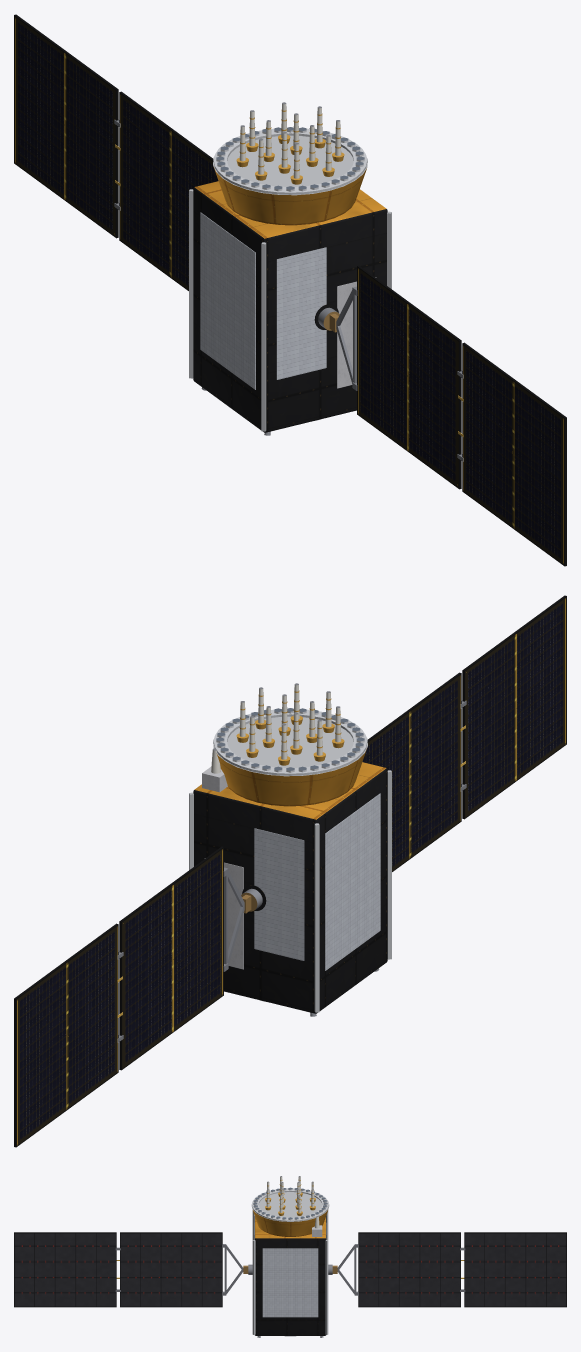
File: glonass-k1.glb
The picture shows the model from 3 angles, top to bottom: view 1: azimuth 30°, elevation 25°; view 2: azimuth 150°, elevation 25°; view 3: azimuth 270°, elevation 25°; orthographic projection. The views are drawn at different scales.
Visible parts, largest first — view 1: bus, wing-Y, wing+Y, nadir_antenna_and_lra; view 2: bus, wing+Y, wing-Y, nadir_antenna_and_lra; view 3: wing+Y, wing-Y, bus, nadir_antenna_and_lra.
Part boxes in pixels (x1,y1,x2,y2): bus: (189,181,391,432); wing-Y: (329,265,566,566); wing+Y: (14,14,218,290); nadir_antenna_and_lra: (213,102,367,225); bus: (189,762,391,1013); wing+Y: (14,846,251,1147); wing-Y: (362,595,566,871); nadir_antenna_and_lra: (202,683,367,806); wing+Y: (332,1232,566,1307); wing-Y: (14,1232,248,1307); bus: (252,1210,328,1335); nadir_antenna_and_lra: (251,1176,329,1236).
Size of the model in its own units: 1.52 by 2.98 by 10.76.
16 materials, 6 textured.
